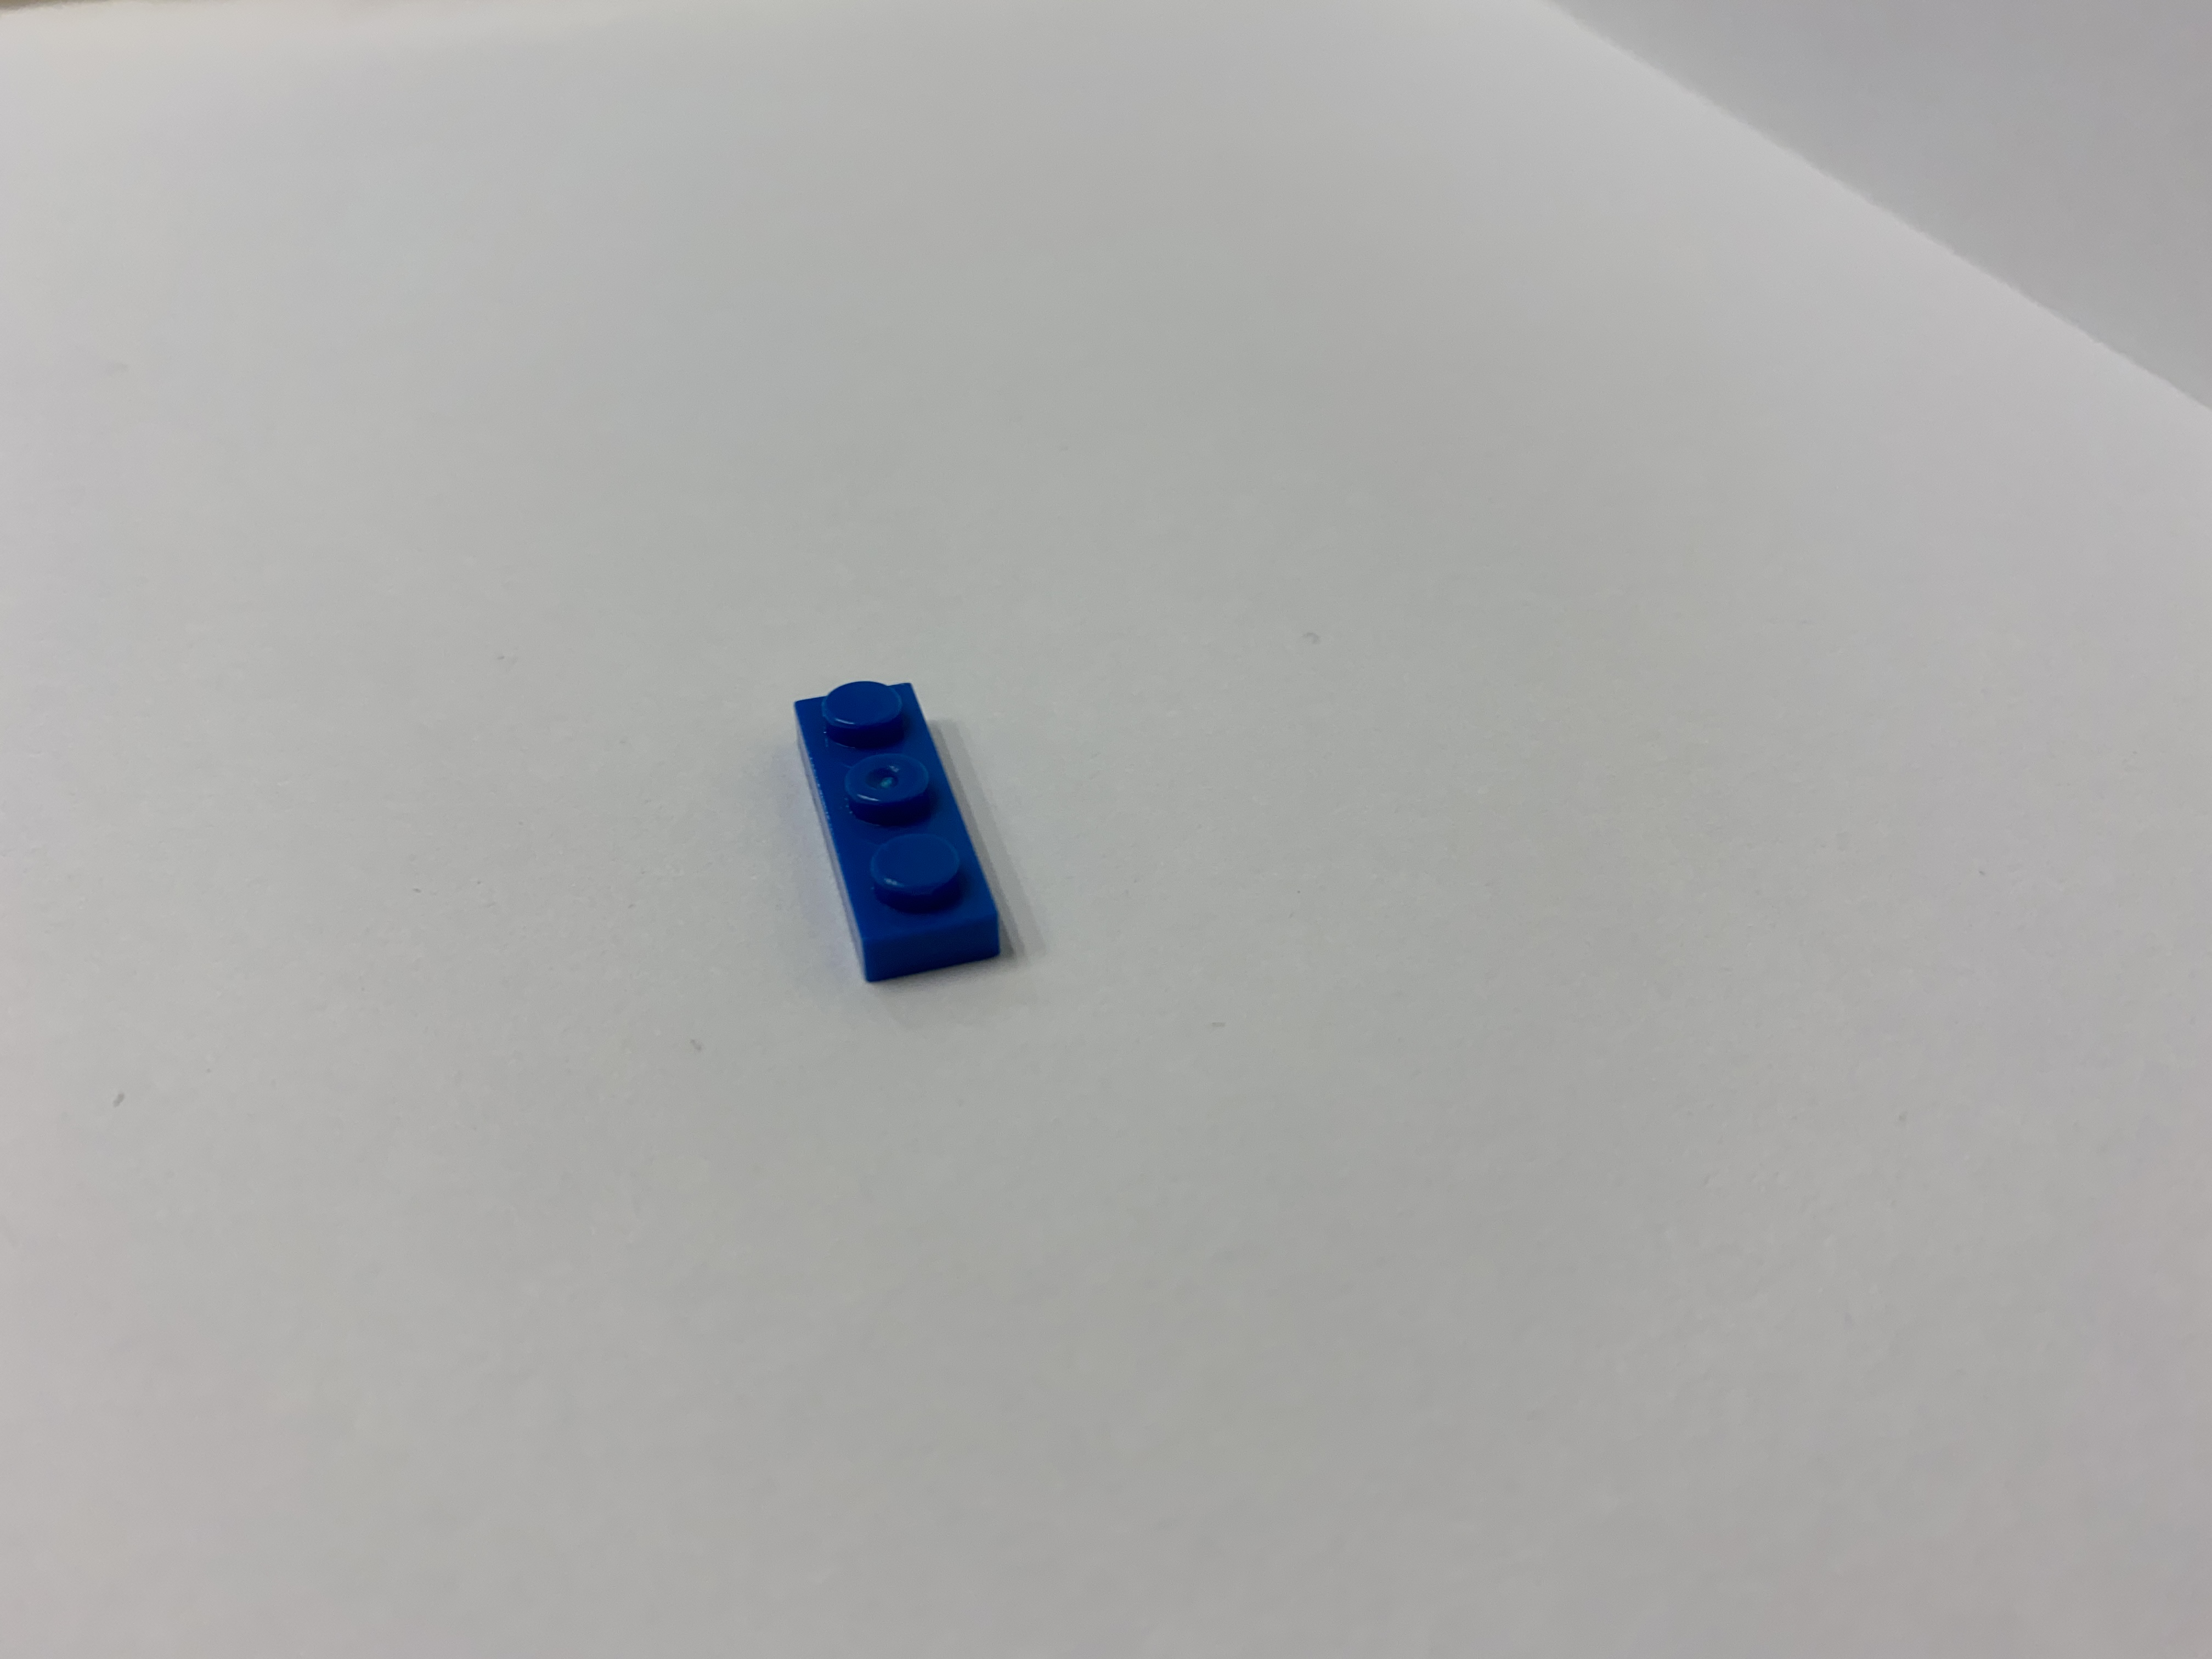car: (772, 676, 1029, 999)
